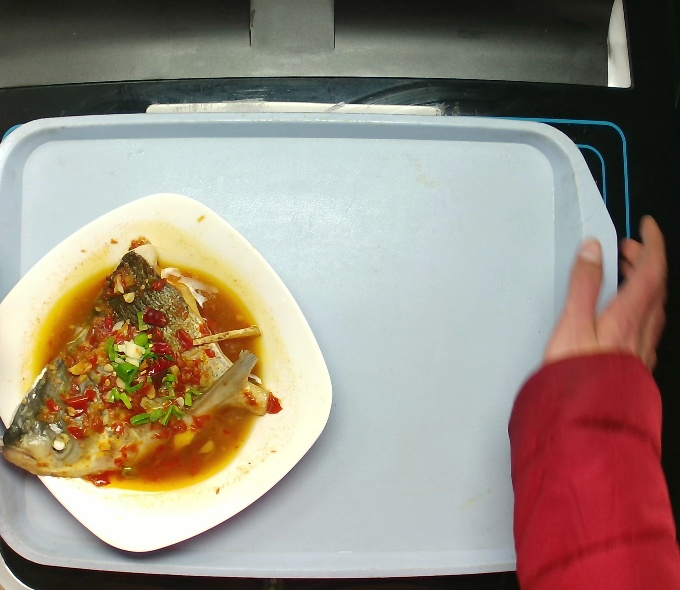wcq-DuoJiaoYuTou: (1, 233, 284, 492)
